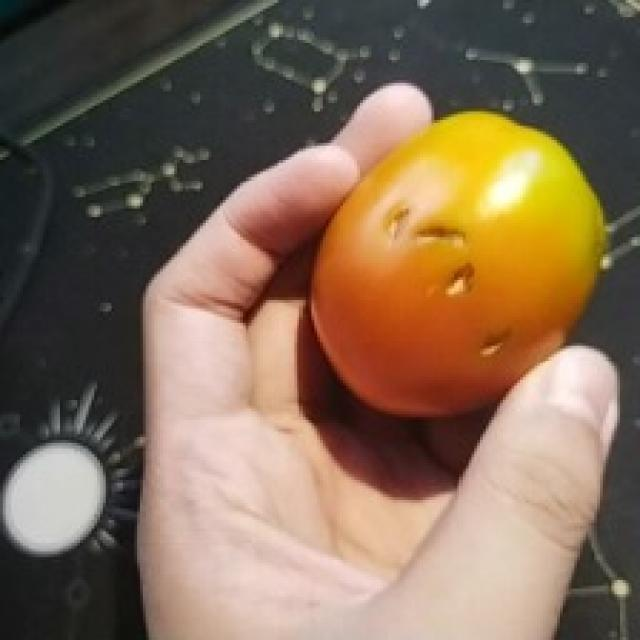Rotten Tomato: (300, 98, 617, 434)
